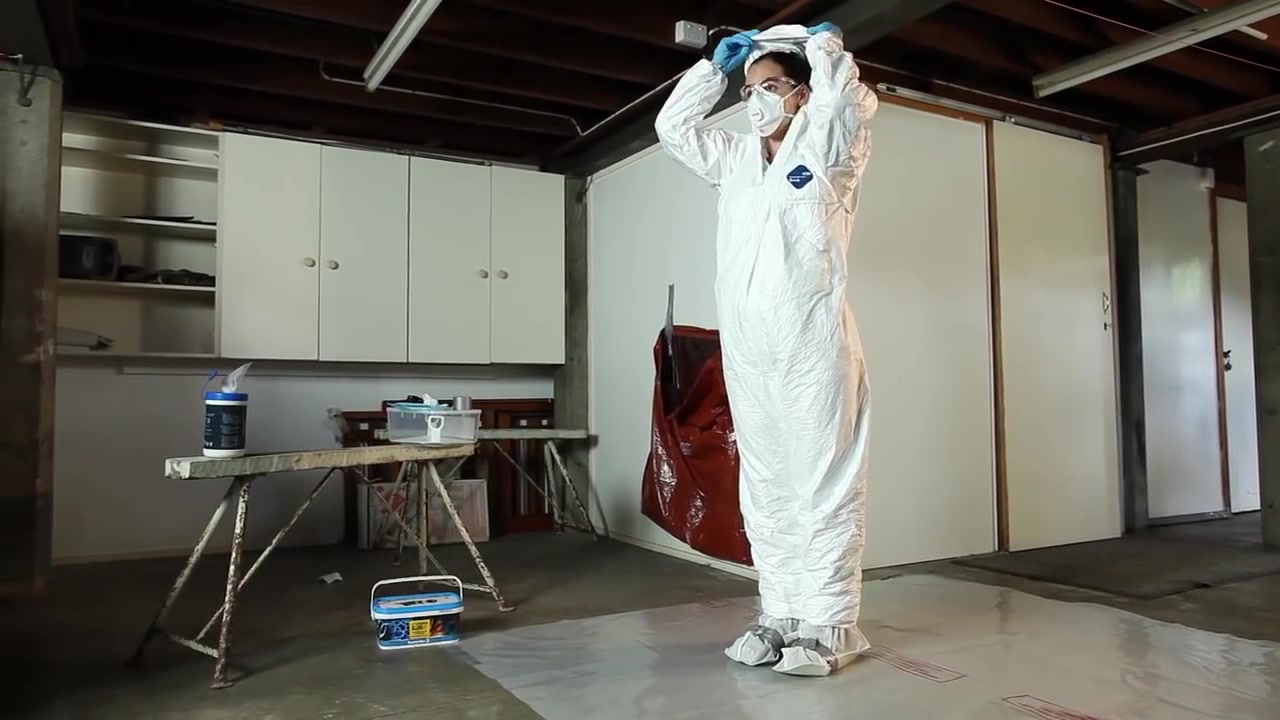Coverall: (661, 101, 902, 683)
Gloves: (705, 17, 749, 66)
Goggles: (739, 77, 791, 98)
with_mask: (740, 92, 781, 139)
